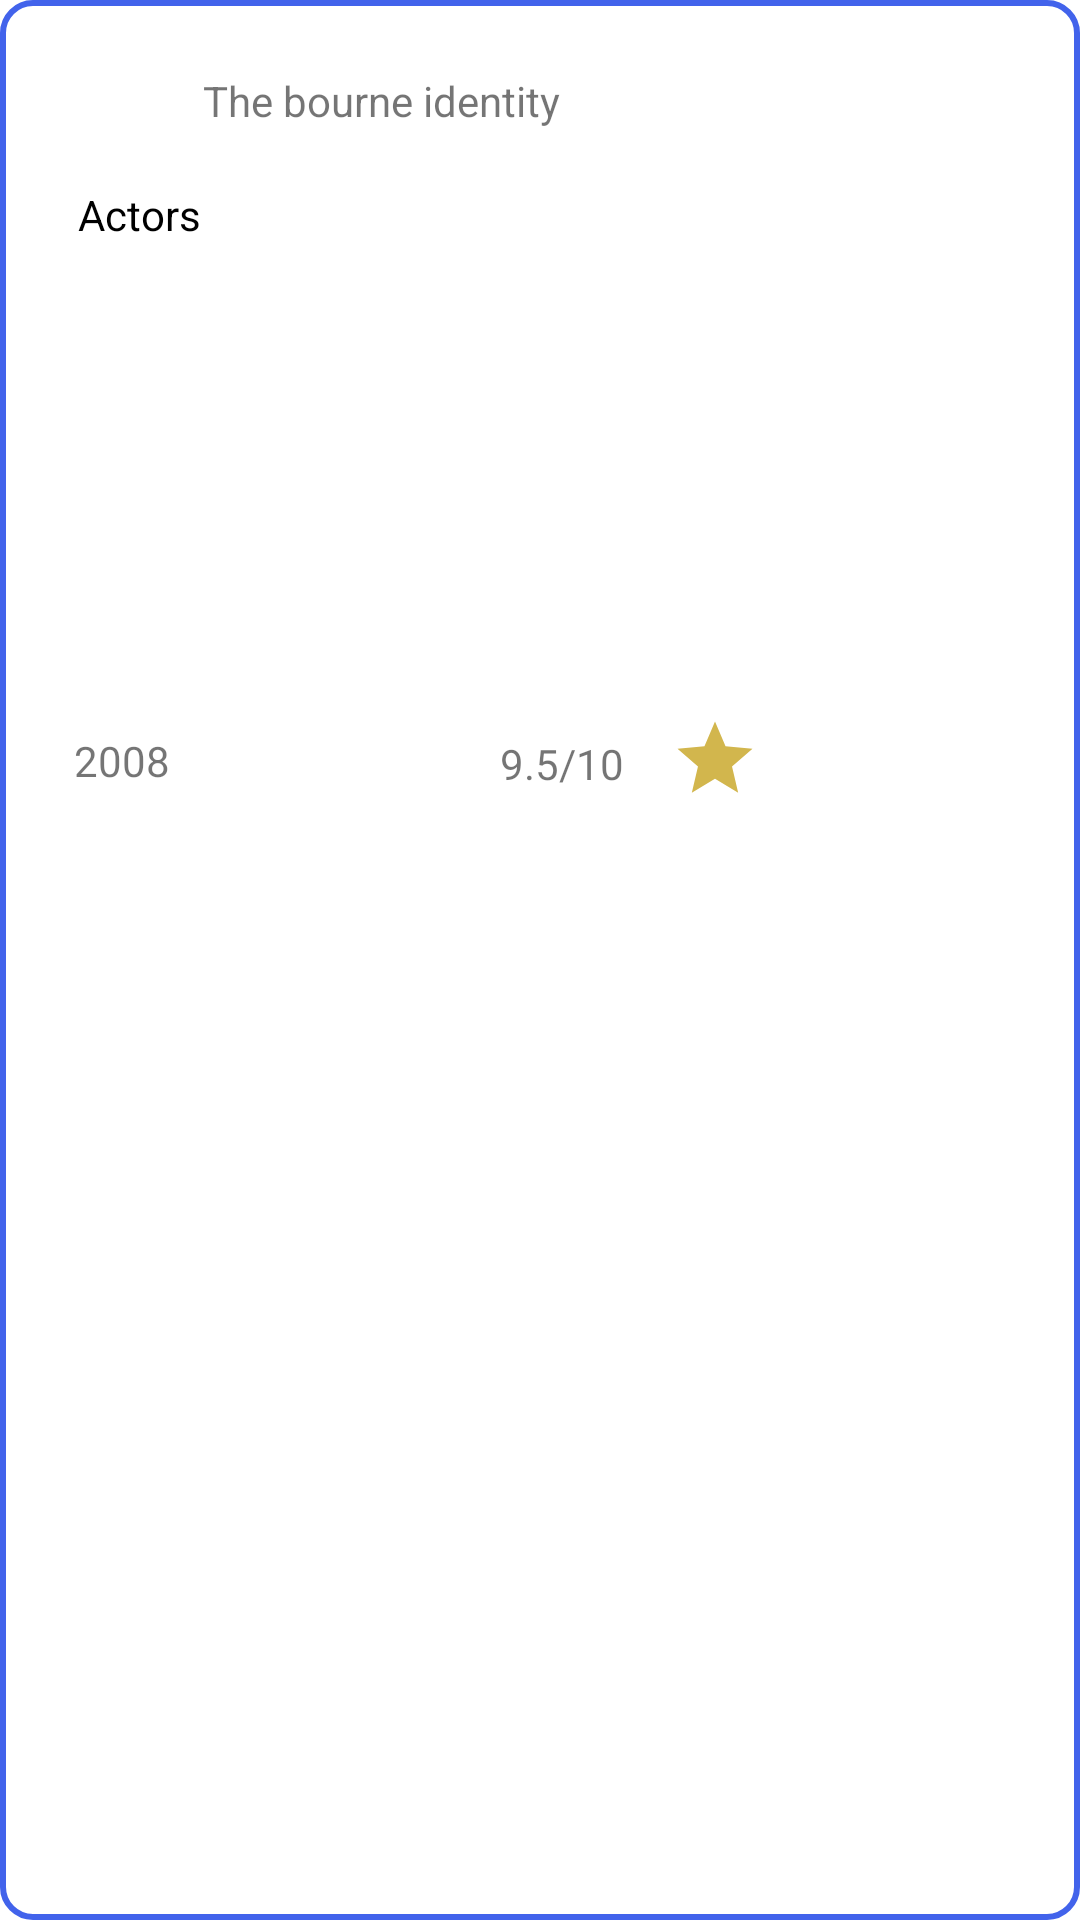

Point at icon controls on the screen. Image size 1080x1920, points as [x,y].
star: [715,757]
